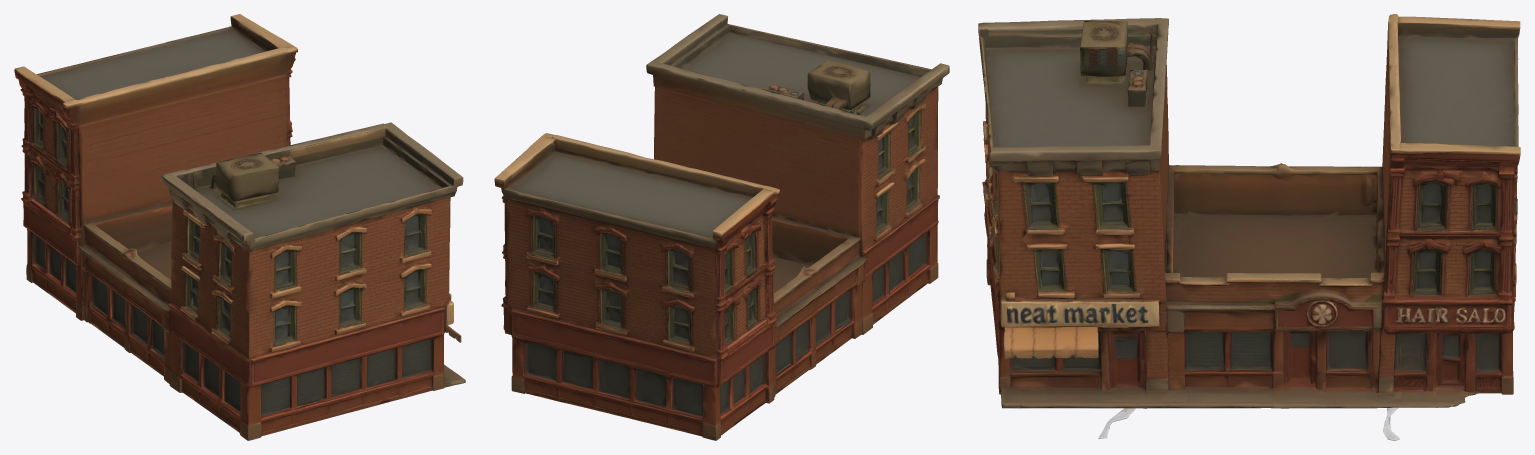
The model's file is building3d2.glb.
3 views of the same model, side by side, from view 1: azimuth 30°, elevation 25°; view 2: azimuth 150°, elevation 25°; view 3: azimuth 270°, elevation 25° (orthographic). The views are drawn at different scales.
Visible parts, largest first — view 1: tripo_node_6fce3767-9903-4e9c-a261-0811b935b73e; view 2: tripo_node_6fce3767-9903-4e9c-a261-0811b935b73e; view 3: tripo_node_6fce3767-9903-4e9c-a261-0811b935b73e.
Part boxes in pixels (left/top/right/bottom): tripo_node_6fce3767-9903-4e9c-a261-0811b935b73e: left=14, top=14, right=465, bottom=440; tripo_node_6fce3767-9903-4e9c-a261-0811b935b73e: left=494, top=14, right=949, bottom=440; tripo_node_6fce3767-9903-4e9c-a261-0811b935b73e: left=978, top=14, right=1520, bottom=440.
Size of the model in its own units: 0.632 by 0.6083 by 1.
Materials: 1 (1 with a texture image).
